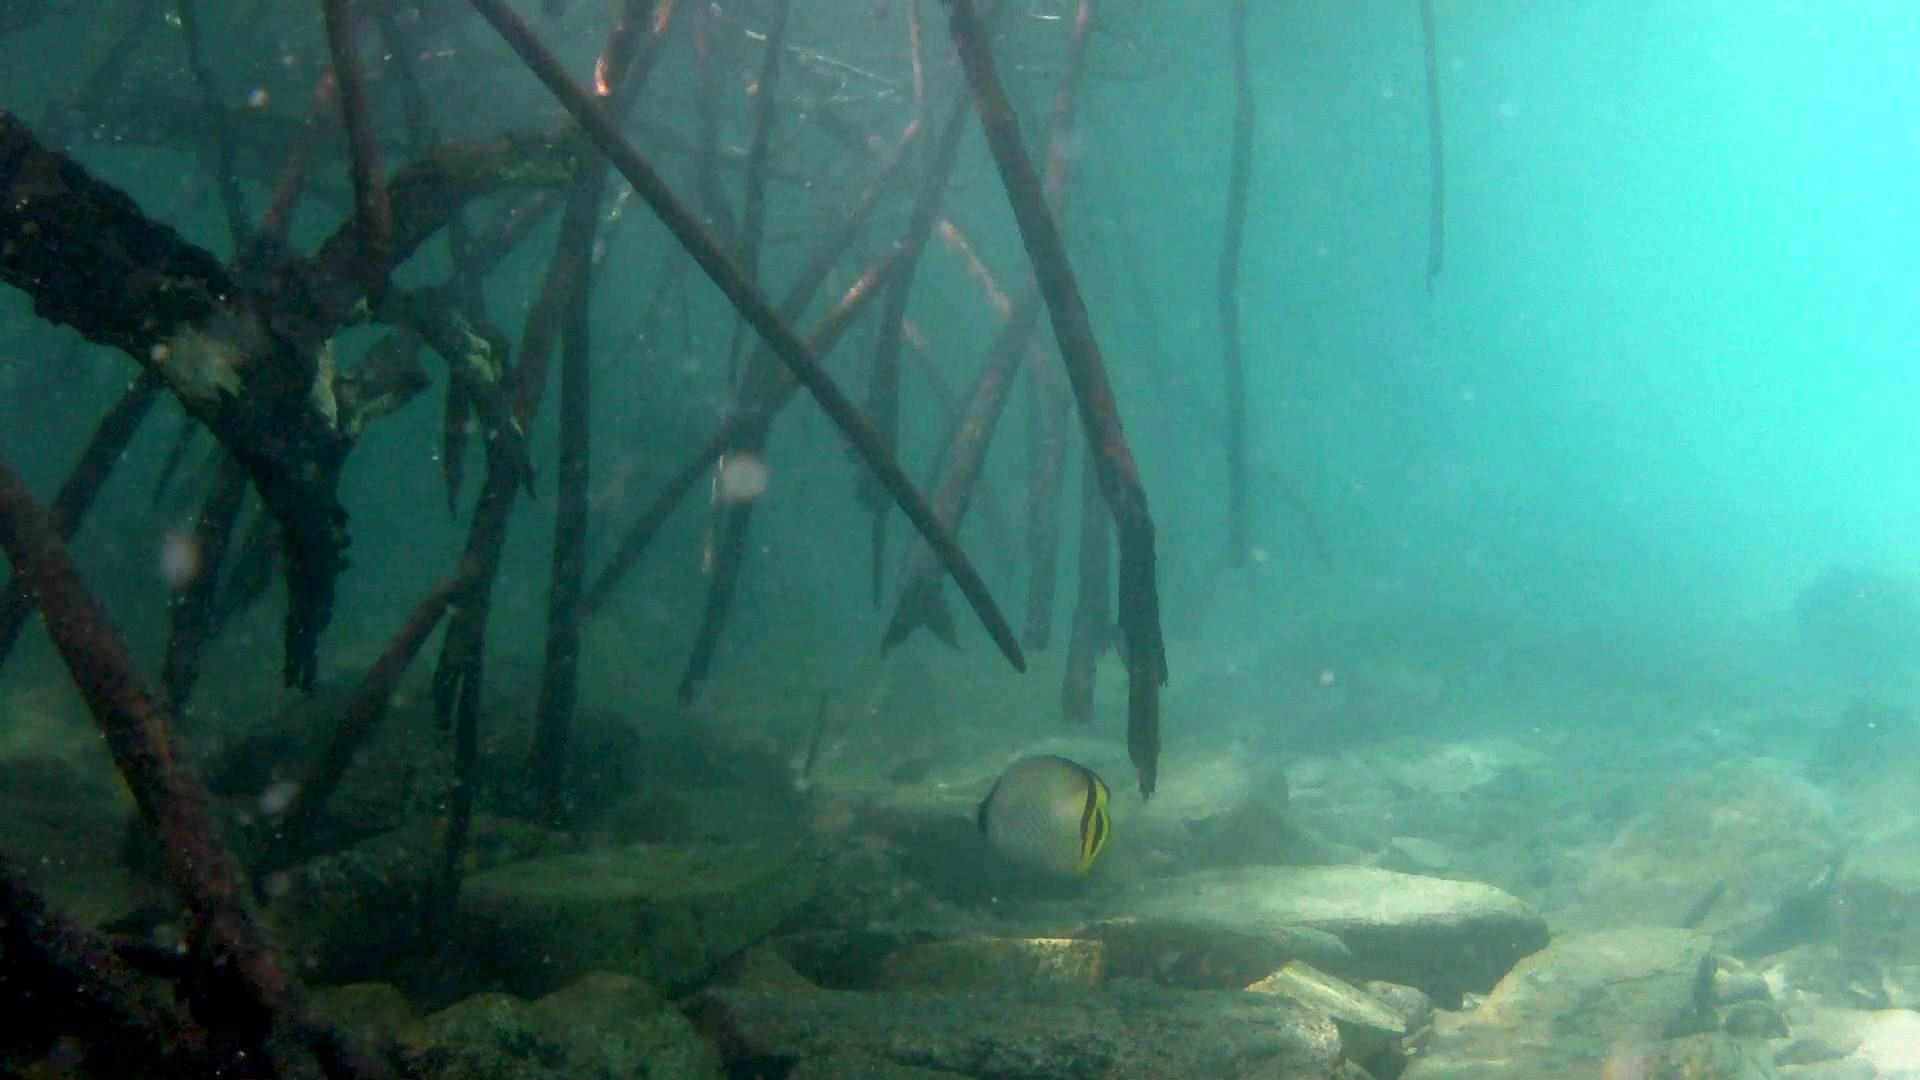chaetodon vagabundus: (953, 749, 1118, 883)
